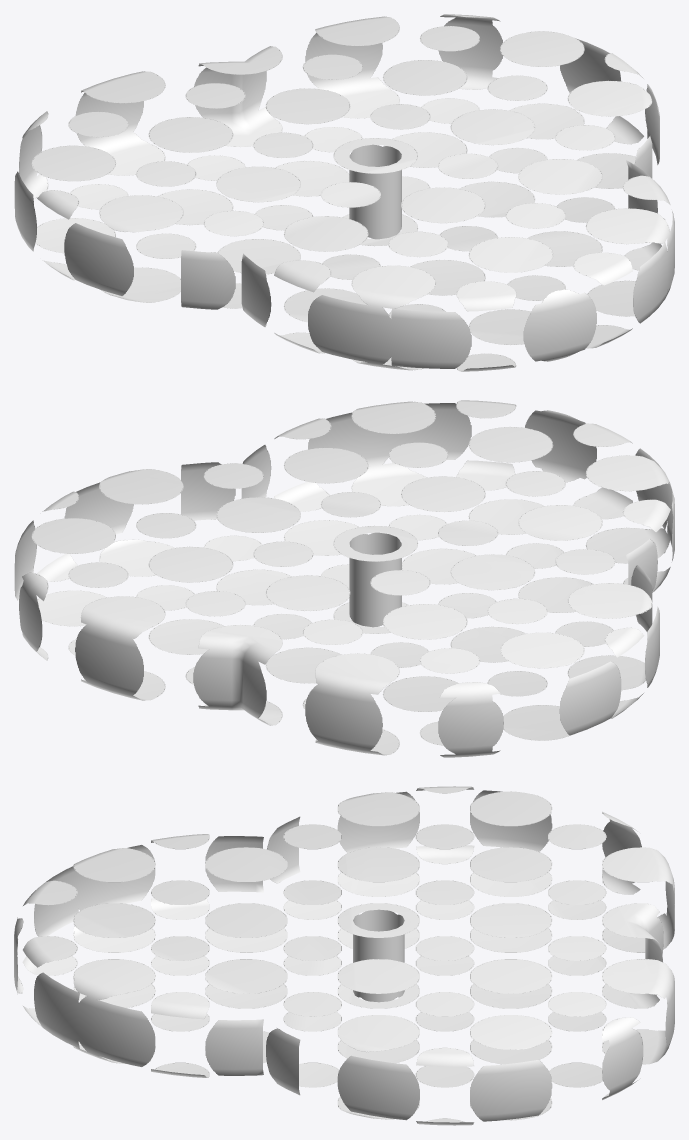
3 renders of one model, top to bottom at view 1: azimuth 30°, elevation 25°; view 2: azimuth 150°, elevation 25°; view 3: azimuth 270°, elevation 25°, orthographic. The views are drawn at different scales.
Parts seen in each view (by area): view 1: CloverOriginal.009; view 2: CloverOriginal.009; view 3: CloverOriginal.009.
Boxes of the visible parts, x1,y1,x2,y2 form: CloverOriginal.009: (14,14,674,371); CloverOriginal.009: (14,400,674,757); CloverOriginal.009: (14,786,674,1125).
Bounding box in the file's own units: 600 × 70.83 × 600.
